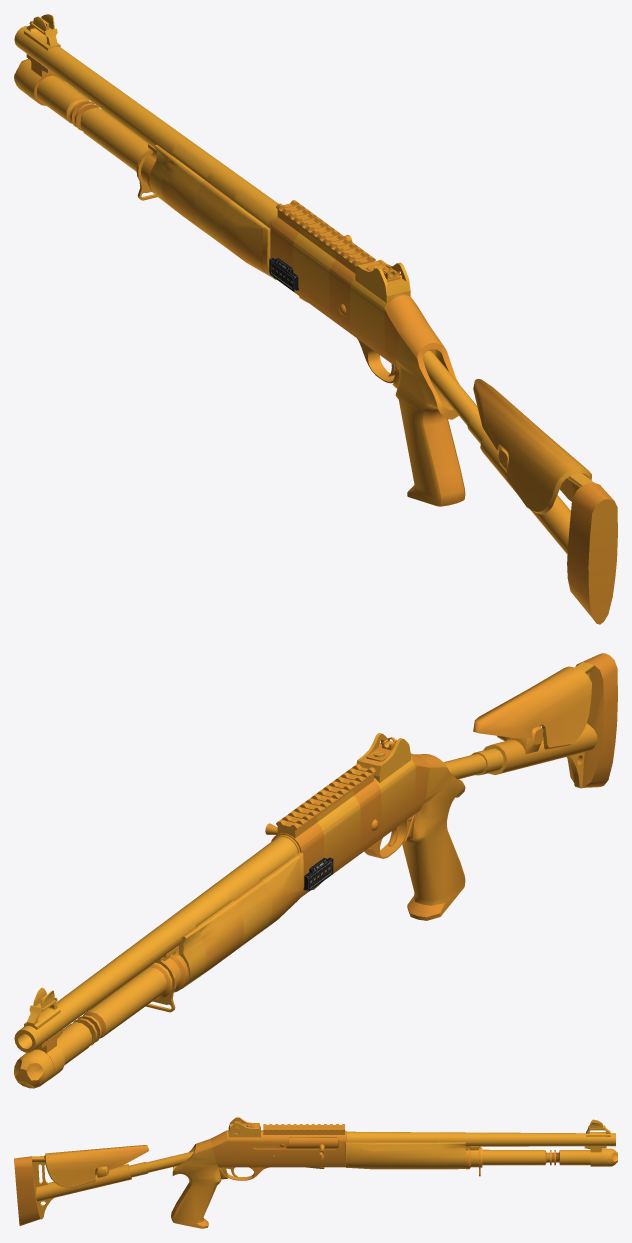
The picture shows the model from 3 angles, top to bottom: view 1: azimuth 30°, elevation 25°; view 2: azimuth 150°, elevation 25°; view 3: azimuth 270°, elevation 25°; orthographic projection. The views are drawn at different scales.
Parts seen in each view (by area): view 1: LOD_Template.001, Sticker2, Sticker3, Sticker1, Sticker4; view 2: LOD_Template.001, Sticker1, Sticker3, Sticker2, Sticker4, StatTrack.003; view 3: LOD_Template.001, Gunlock1.002.
Boxes of the visible parts, left/top/right/bottom form: LOD_Template.001: left=14, top=14, right=617, bottom=624; Sticker2: left=221, top=189, right=274, bottom=275; Sticker3: left=292, top=227, right=335, bottom=320; Sticker1: left=161, top=143, right=212, bottom=230; Sticker4: left=350, top=275, right=388, bottom=360; LOD_Template.001: left=14, top=653, right=617, bottom=1088; Sticker1: left=190, top=889, right=244, bottom=976; Sticker3: left=317, top=790, right=360, bottom=873; Sticker2: left=253, top=843, right=300, bottom=928; Sticker4: left=377, top=755, right=415, bottom=840; StatTrack.003: left=303, top=857, right=333, bottom=891; LOD_Template.001: left=14, top=1117, right=617, bottom=1228; Gunlock1.002: left=275, top=1138, right=338, bottom=1155.
Bounding box in the file's own units: 0.0674 × 0.1996 × 1.03.
Materials: 6 (6 with a texture image).
